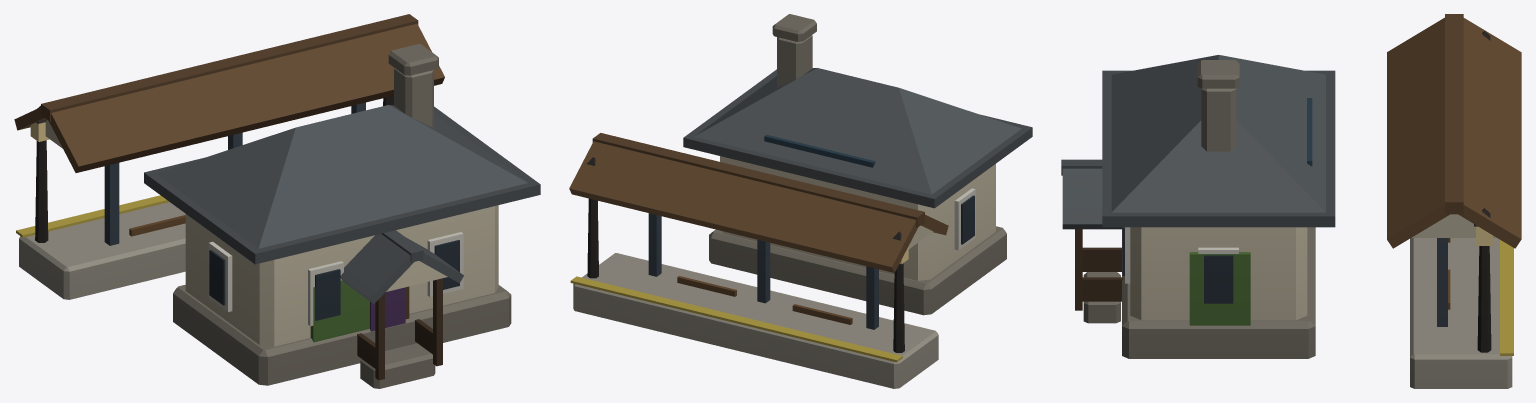
The model's file is station.glb.
The picture shows the model from 3 angles, left to right: view 1: azimuth 30°, elevation 25°; view 2: azimuth 150°, elevation 25°; view 3: azimuth 270°, elevation 25°; orthographic projection. The views are drawn at different scales.
Visible parts, largest first — view 1: station_model; view 2: station_model; view 3: station_model.
Boxes of the visible parts, <box> form: station_model: <box>14,14,540,388</box>; station_model: <box>569,14,1032,388</box>; station_model: <box>1061,14,1521,388</box>.
Size of the model in its own units: 0.9225 by 0.6292 by 0.9485.
